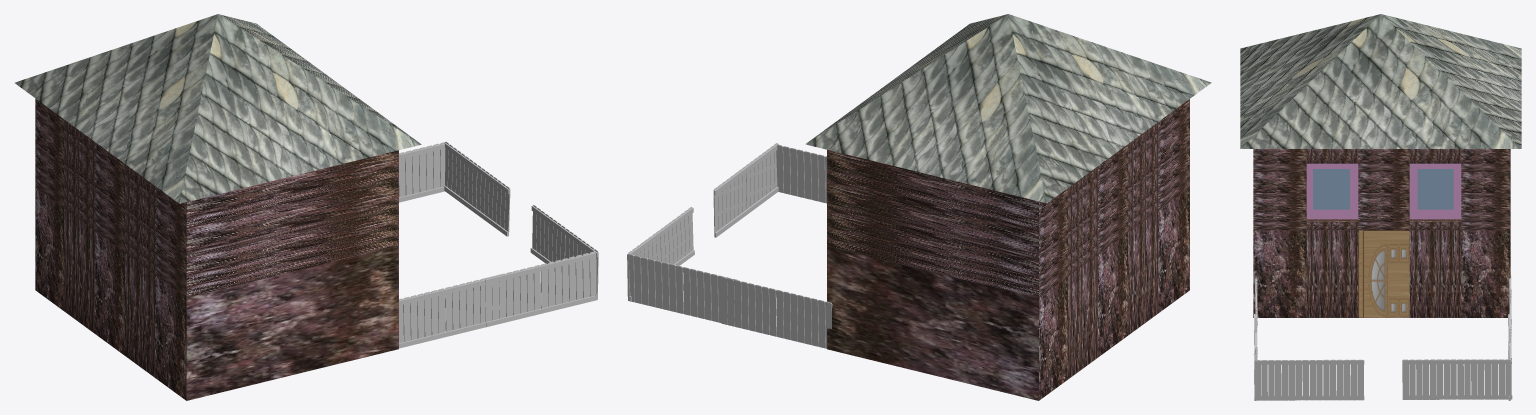
The model's file is haus6_mit_vorgarten.fbx.
3 renders of one model, left to right at view 1: azimuth 30°, elevation 25°; view 2: azimuth 150°, elevation 25°; view 3: azimuth 270°, elevation 25°, orthographic. The views are drawn at different scales.
Parts seen in each view (by area): view 1: haus, zaun; view 2: haus, zaun; view 3: haus, zaun.
Boxes of the visible parts, <box> form: haus: <box>14,14,421,400</box>; zaun: <box>399,141,598,348</box>; haus: <box>805,14,1211,400</box>; zaun: <box>627,143,832,348</box>; haus: <box>1240,14,1521,317</box>; zaun: <box>1253,276,1512,400</box>.
Bounding box in the file's own units: 1174 × 1754 × 1200.
11 materials, 3 textured.
